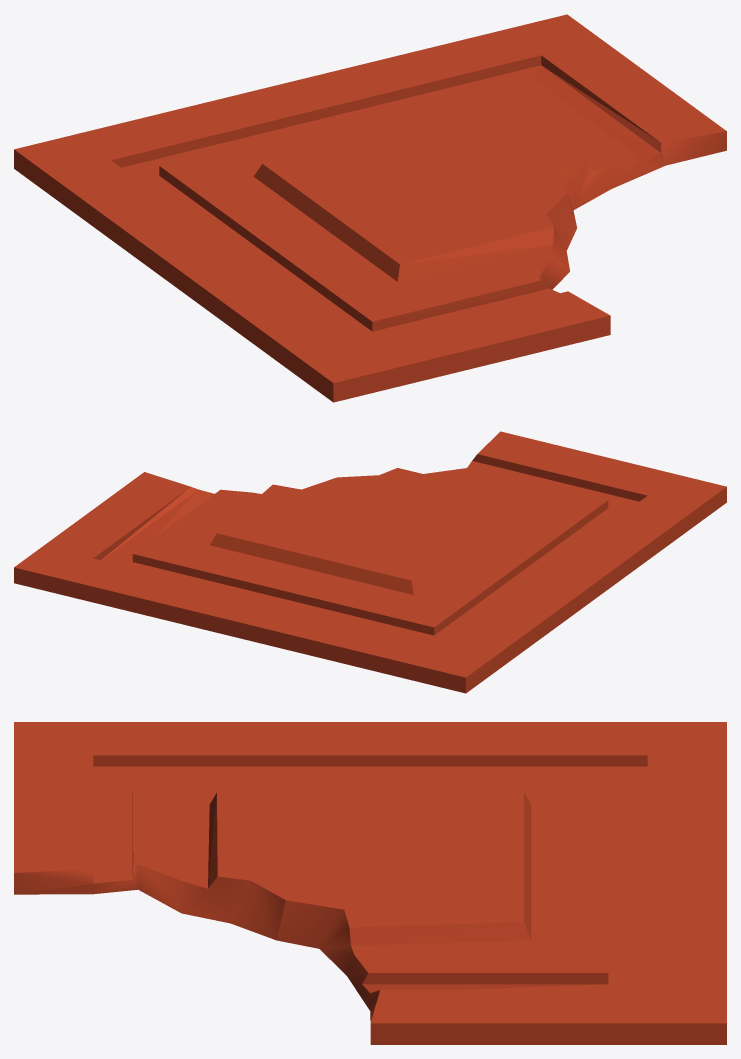
The model's file is Ceiling-Broken1.FBX.
The picture shows the model from 3 angles, top to bottom: view 1: azimuth 30°, elevation 25°; view 2: azimuth 150°, elevation 25°; view 3: azimuth 270°, elevation 25°; orthographic projection. The views are drawn at different scales.
Visible parts, largest first — view 1: Ceiling-Broken2; view 2: Ceiling-Broken2; view 3: Ceiling-Broken2.
Boxes of the visible parts, box(x1,y1,x2,y2) form: Ceiling-Broken2: box(14, 14, 726, 402); Ceiling-Broken2: box(14, 431, 726, 693); Ceiling-Broken2: box(14, 722, 726, 1044).
Size of the model in its own units: 118 by 6.73 by 118.
